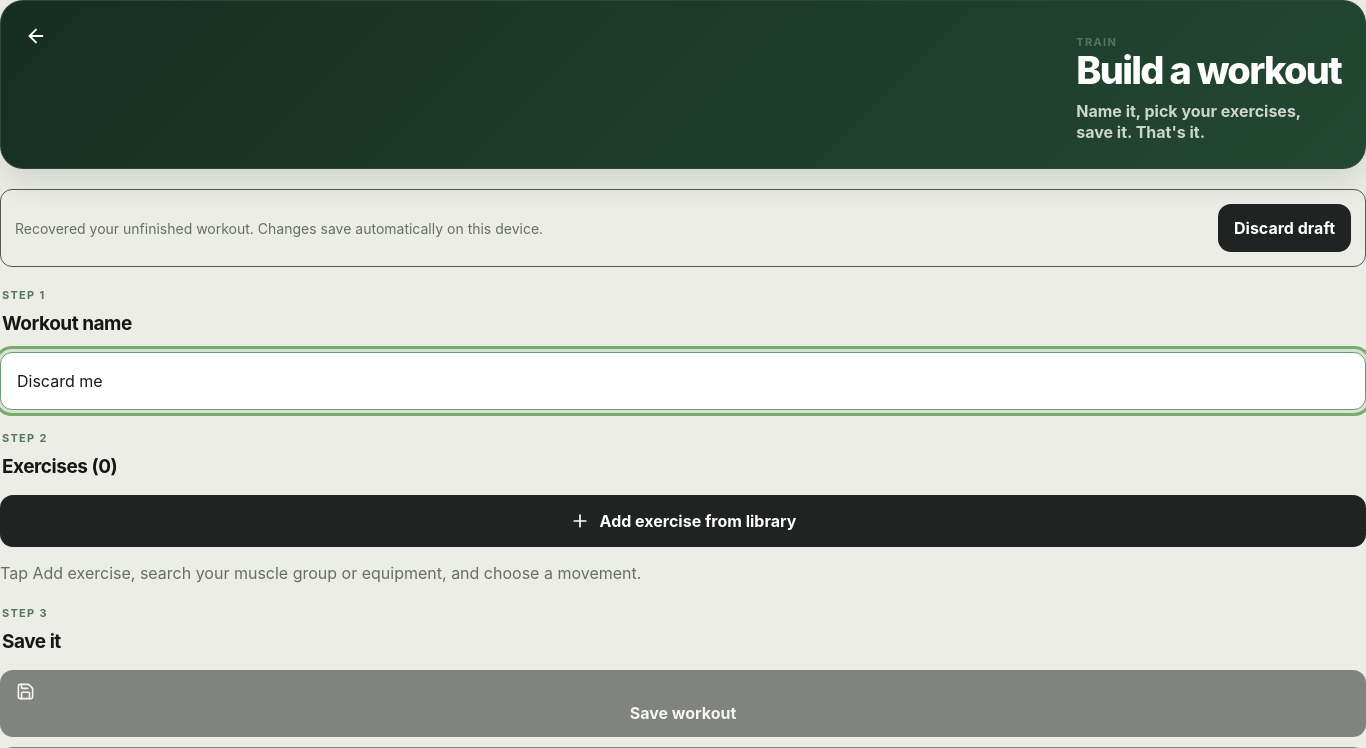
Scenario: workout builder draft recovery › lets users discard an interrupted workout without restoring it later
The width and height of the screenshot is (1366, 748).
Earlier steps of the test are not shown.
Later steps or results of the test are not shown.
Click the button "Discard draft" at (1284, 228), box [1218,204,1351,252]
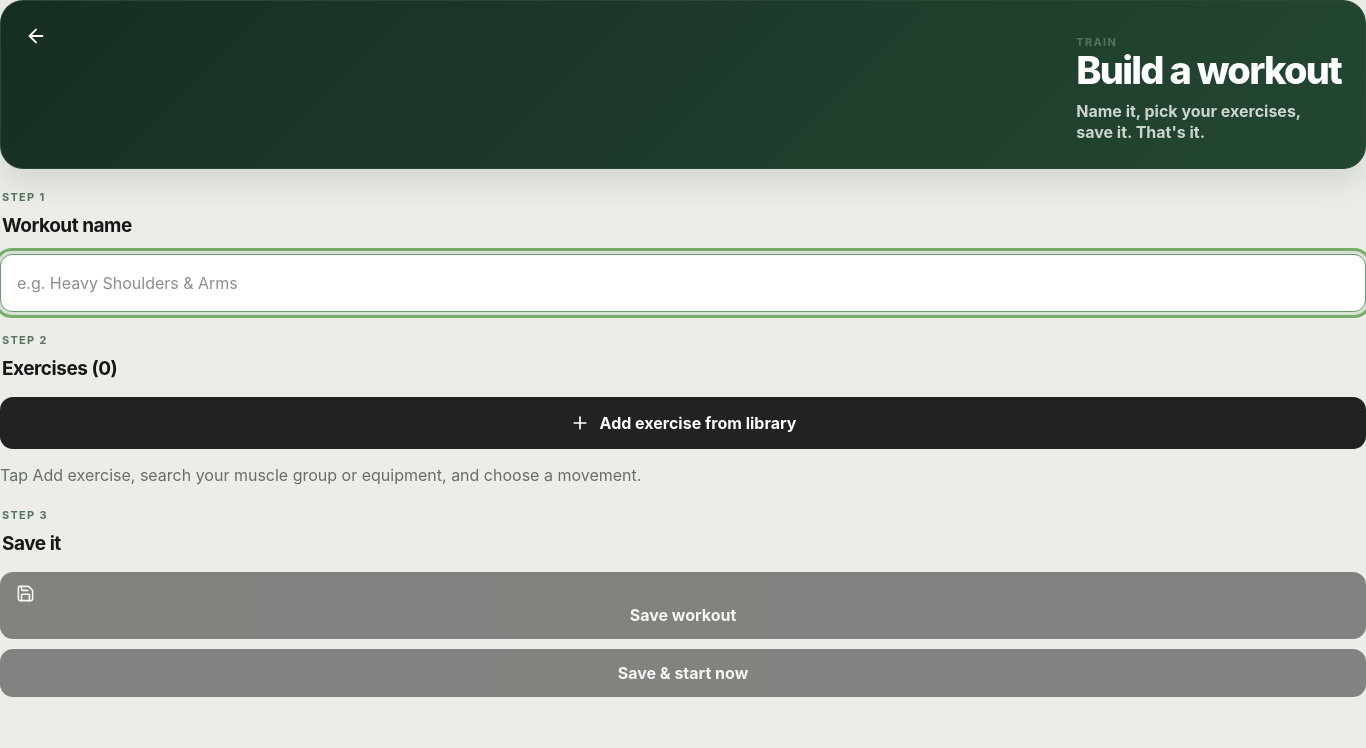
Now the field named "Workout name" is empty, box [0,254,1365,312]
